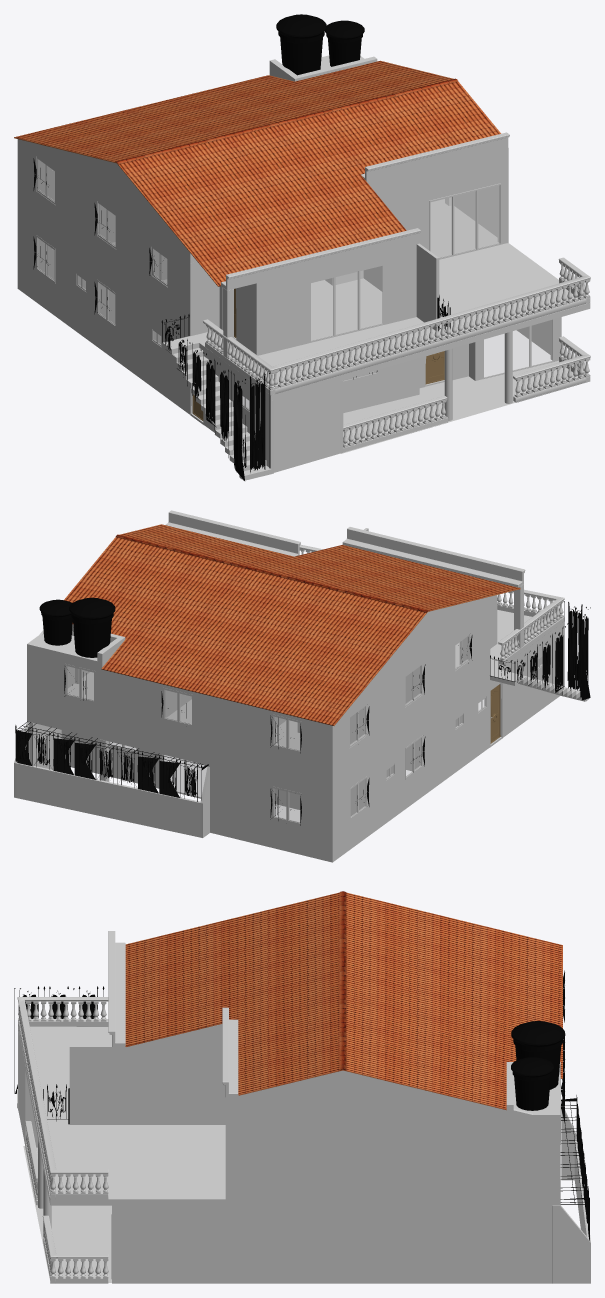
File: casa-opt.glb
The picture shows the model from 3 angles, top to bottom: view 1: azimuth 30°, elevation 25°; view 2: azimuth 150°, elevation 25°; view 3: azimuth 270°, elevation 25°; orthographic projection. The views are drawn at different scales.
Visible parts, largest first — view 1: Plane.001, Roof, Window.011 (×2), Plane, Cube.012, Tanque_2000L, EntryDoor; view 2: Plane.001, Roof, Window.011 (×2), Cube.012, Cube.008, Tanque_2000L, Plane, EntryDoor; view 3: Plane.001, Roof, Plane, Tanque_2000L, Window.011, Cube.012, Cube.008.
Boxes of the visible parts, box(x1,y1,x2,y2) form: Plane.001: box(17, 55, 590, 480); Roof: box(14, 60, 500, 286); Window.011 (×2): box(36, 157, 590, 472); Plane: box(190, 243, 584, 453); Cube.012: box(33, 158, 450, 480); Tanque_2000L: box(276, 14, 364, 75); EntryDoor: box(192, 288, 444, 420); Plane.001: box(14, 510, 589, 862); Roof: box(64, 524, 520, 725); Window.011 (×2): box(65, 545, 564, 825); Cube.012: box(16, 601, 590, 825); Cube.008: box(15, 655, 515, 801); Tanque_2000L: box(39, 597, 115, 657); Plane: box(490, 610, 543, 674); EntryDoor: box(490, 684, 500, 743); Plane.001: box(17, 931, 590, 1283); Roof: box(125, 891, 562, 1110); Plane: box(23, 1026, 225, 1282); Tanque_2000L: box(511, 1021, 565, 1110); Window.011: box(17, 997, 560, 1279); Cube.012: box(14, 970, 589, 1234); Cube.008: box(560, 1095, 589, 1240).
Size of what is drawn, in the model's own units: 13.12 by 7.66 by 16.73.
6 materials, 1 textured.
